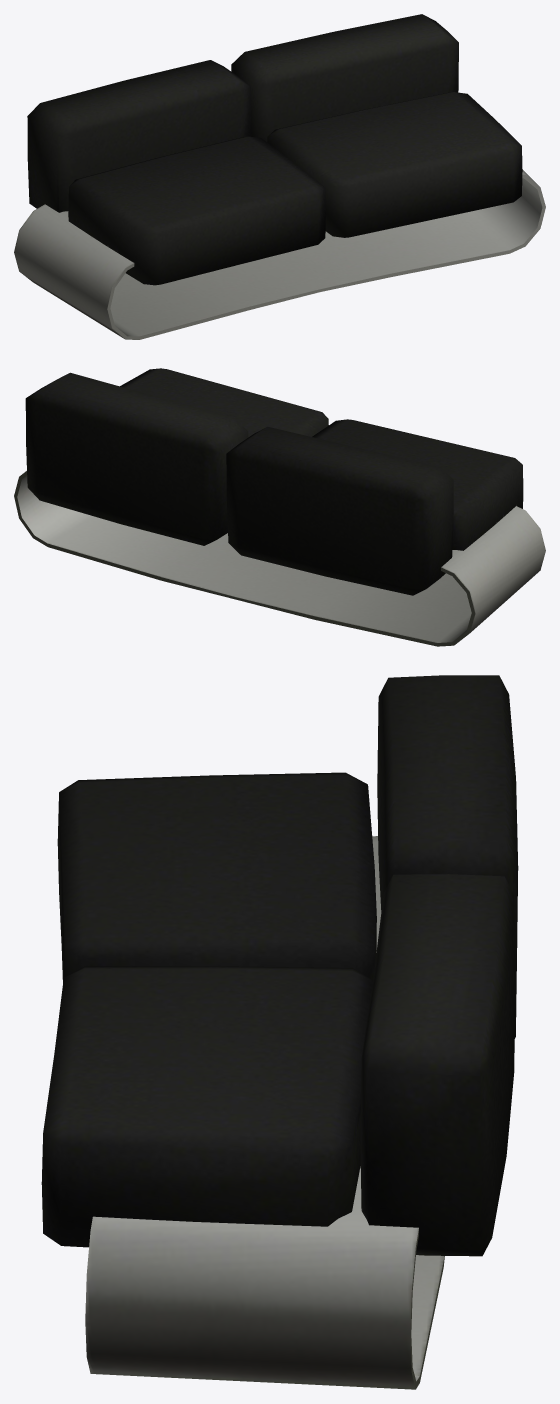
The model's file is NetW_Chair2P02_black.FBX.
The picture shows the model from 3 angles, top to bottom: view 1: azimuth 30°, elevation 25°; view 2: azimuth 150°, elevation 25°; view 3: azimuth 270°, elevation 25°; orthographic projection. The views are drawn at different scales.
Parts seen in each view (by area): view 1: NetW_Chair2P01; view 2: NetW_Chair2P01; view 3: NetW_Chair2P01.
Boxes of the visible parts, x1,y1,x2,y2 form: NetW_Chair2P01: [14, 14, 545, 339]; NetW_Chair2P01: [14, 368, 545, 646]; NetW_Chair2P01: [41, 675, 518, 1389].
Size of the model in its own units: 2.06 by 0.7159 by 0.9205.
